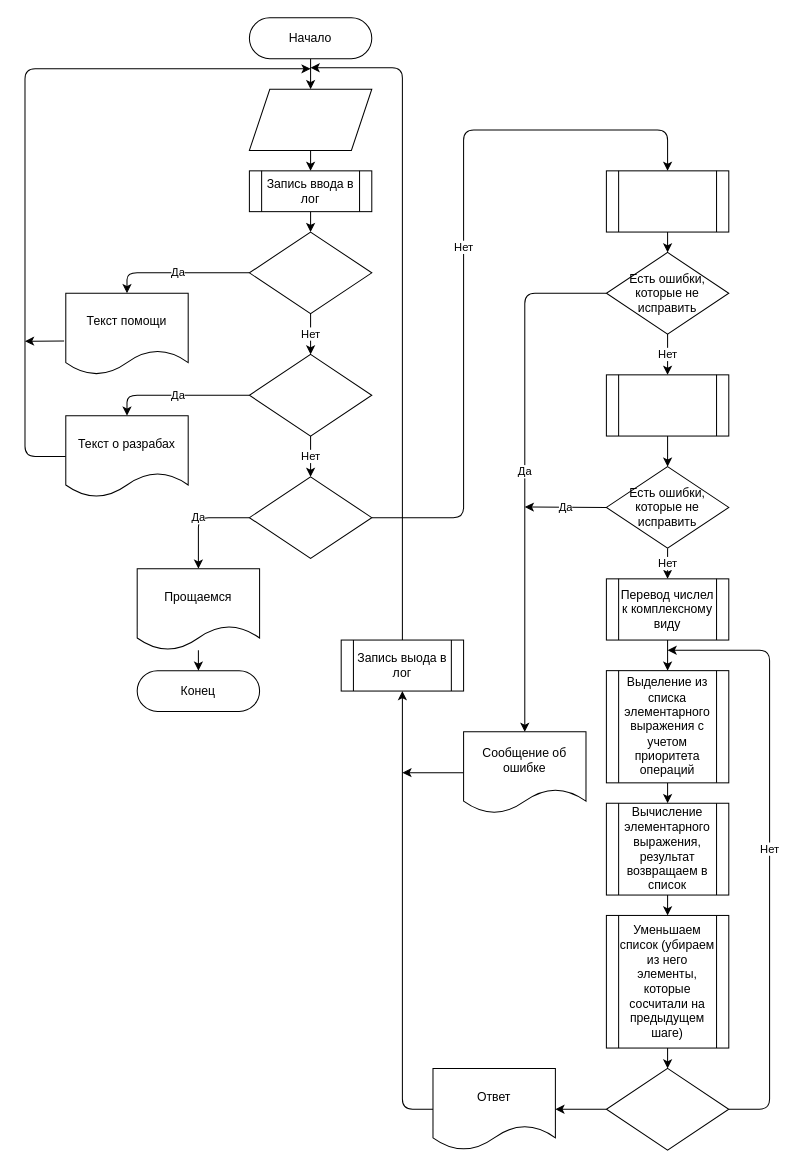
The diagram is 797 pixels wide and 1168 high, and some of its shapes have lost their labels. The centre of each missing label's shape, as x and y in pixels:
"В вписке остался только 1 элемент" goes at [667,1108].
"Ввели /exit" goes at [310,517].
"Ввели /help" goes at [310,272].
"Ввели /info" goes at [310,394].
"Ввод строки" goes at [310,119].
"Парсинг строки в список операций, чисел и скобок" goes at [667,405].
"Проверка на элементарные ошибки" goes at [667,201].
